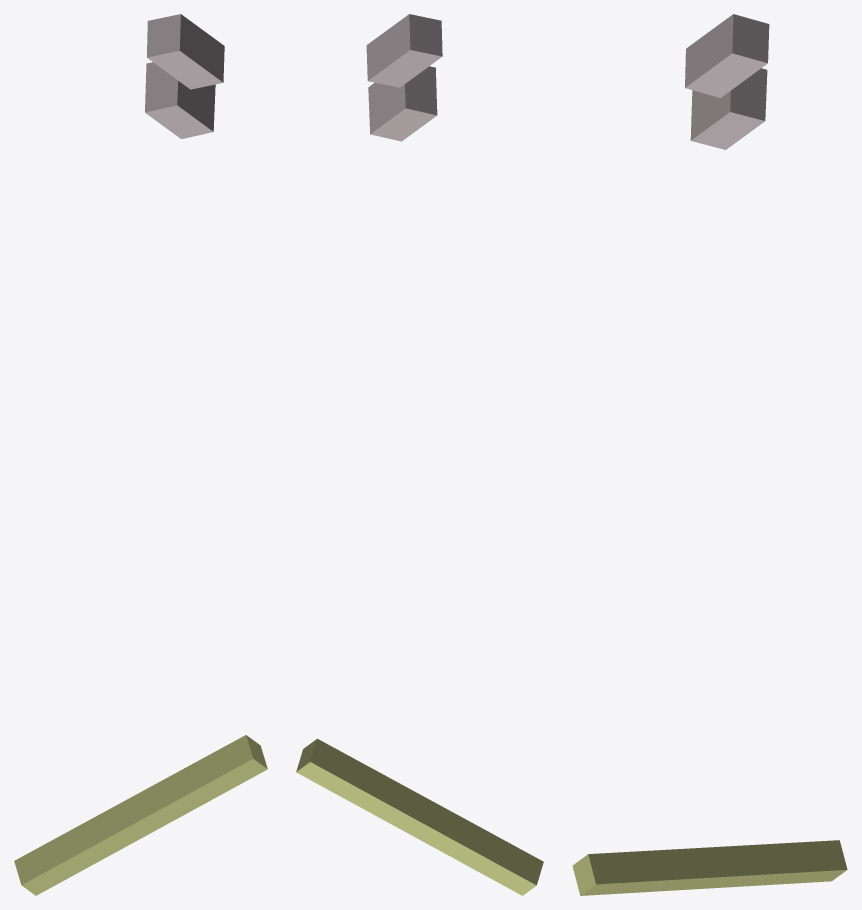
The picture shows the model from 3 angles, left to right: view 1: azimuth 30°, elevation 25°; view 2: azimuth 150°, elevation 25°; view 3: azimuth 330°, elevation 25°; orthographic projection. The views are drawn at different scales.
Visible parts, largest first — view 1: 0_2_1_3_0_0_2; view 2: 0_2_1_3_0_0_2; view 3: 0_2_1_3_0_0_2.
Boxes of the visible parts, left/top/right/bottom form: 0_2_1_3_0_0_2: left=14, top=14, right=267, bottom=895; 0_2_1_3_0_0_2: left=296, top=14, right=543, bottom=895; 0_2_1_3_0_0_2: left=572, top=14, right=847, bottom=895.
Size of the model in its own units: 56.83 by 189 by 18.
